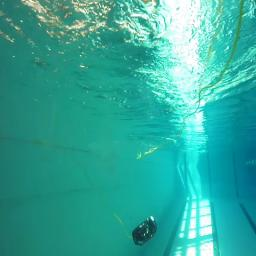Side: (130, 215, 157, 247), (132, 216, 158, 246)
